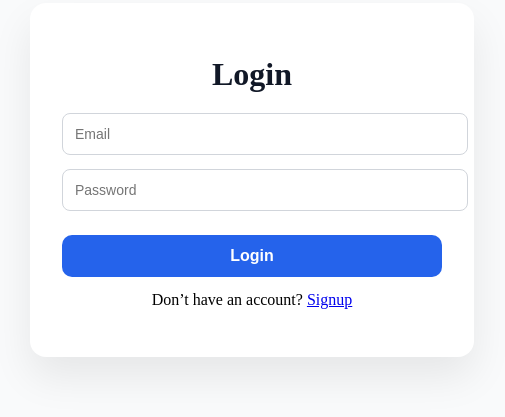
it: Login Component › shows validation error when password is empty
This screenshot has width=505, height=417.
In the field with placeholder "Email": (265, 134) [62,113,468,155], type "test@example.com"
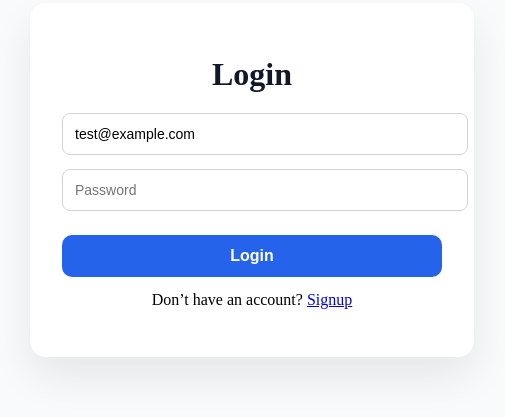
Click the button "Login": (252, 256) [62,235,442,277]
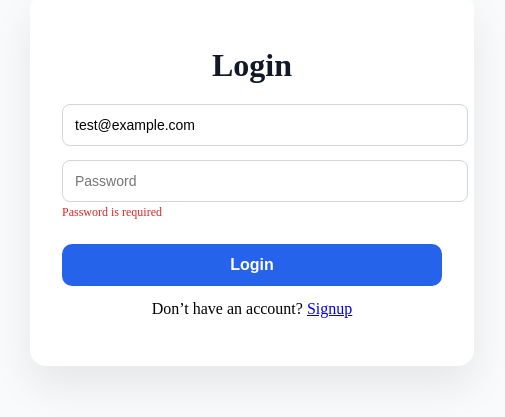
Expected: the text "Password is required" is shown, [62,205,162,219]
